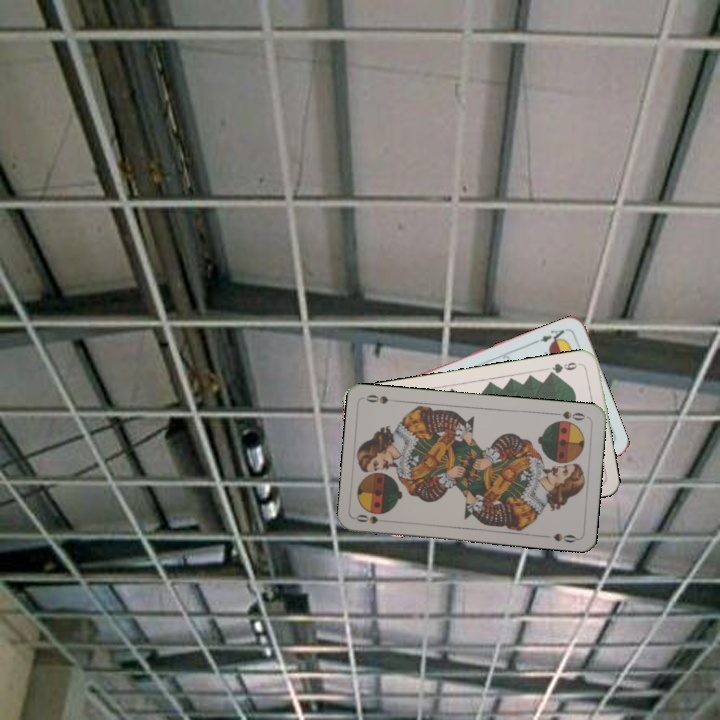EA: (531, 324, 570, 348)
G9: (544, 358, 584, 378)
SO: (550, 407, 590, 423), (352, 510, 392, 526)
